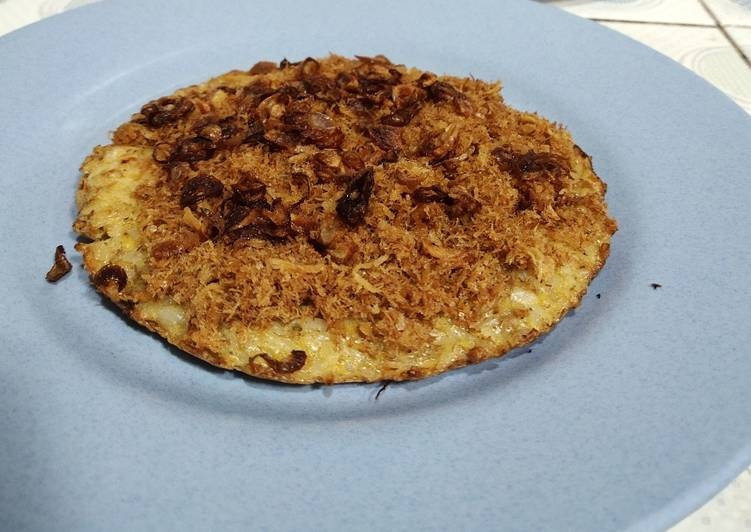kerak_telor: (54, 55, 640, 401)
